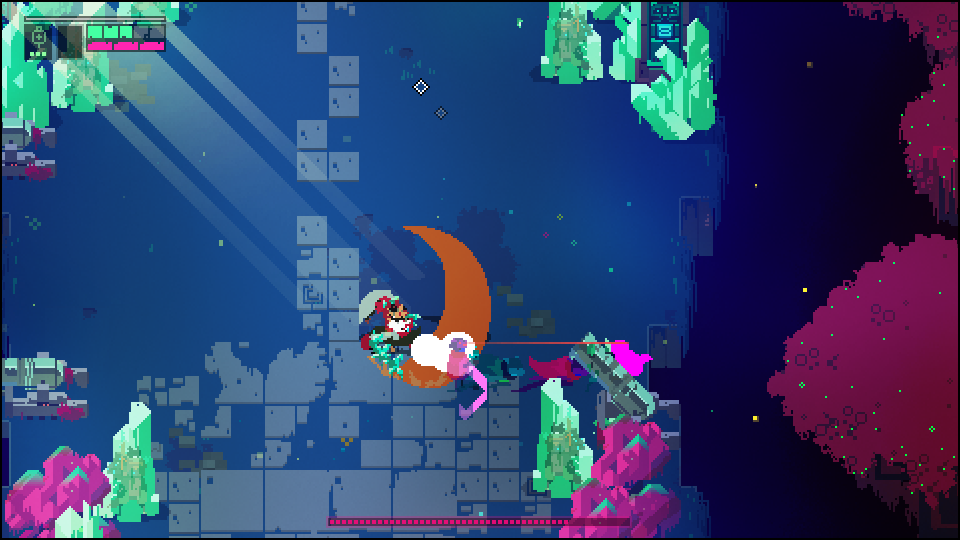hanged_man: (361, 289, 432, 383)
player: (607, 340, 650, 377)
